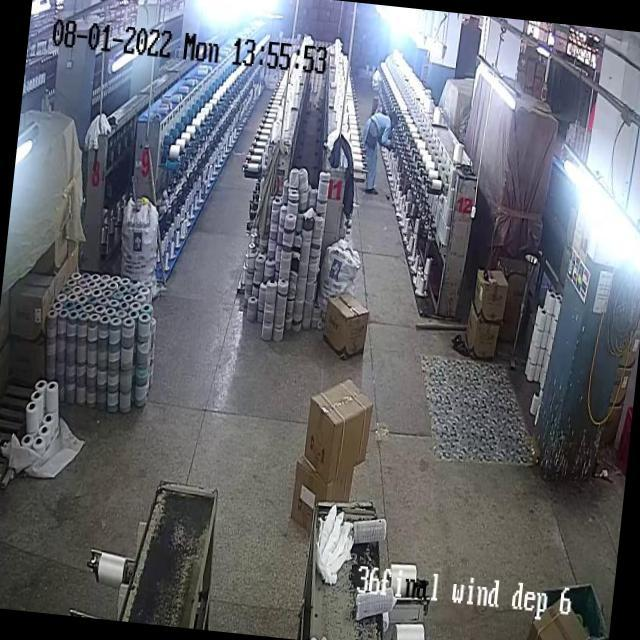person: (357, 102, 398, 202)
